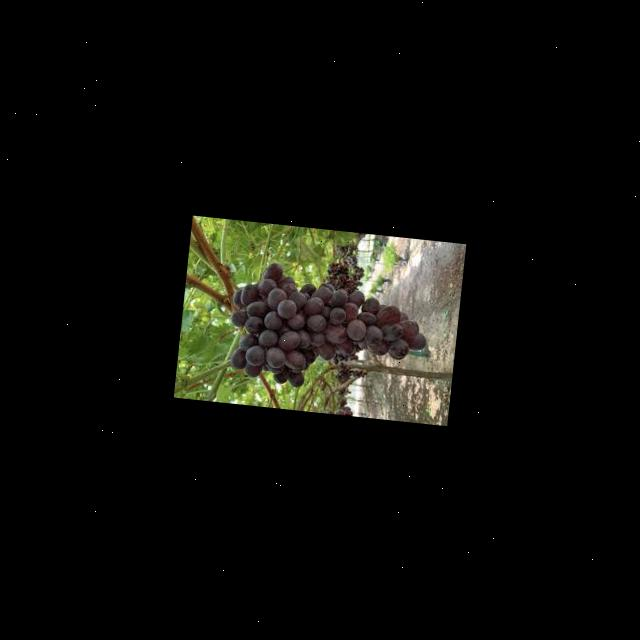grape: (222, 258, 432, 400)
